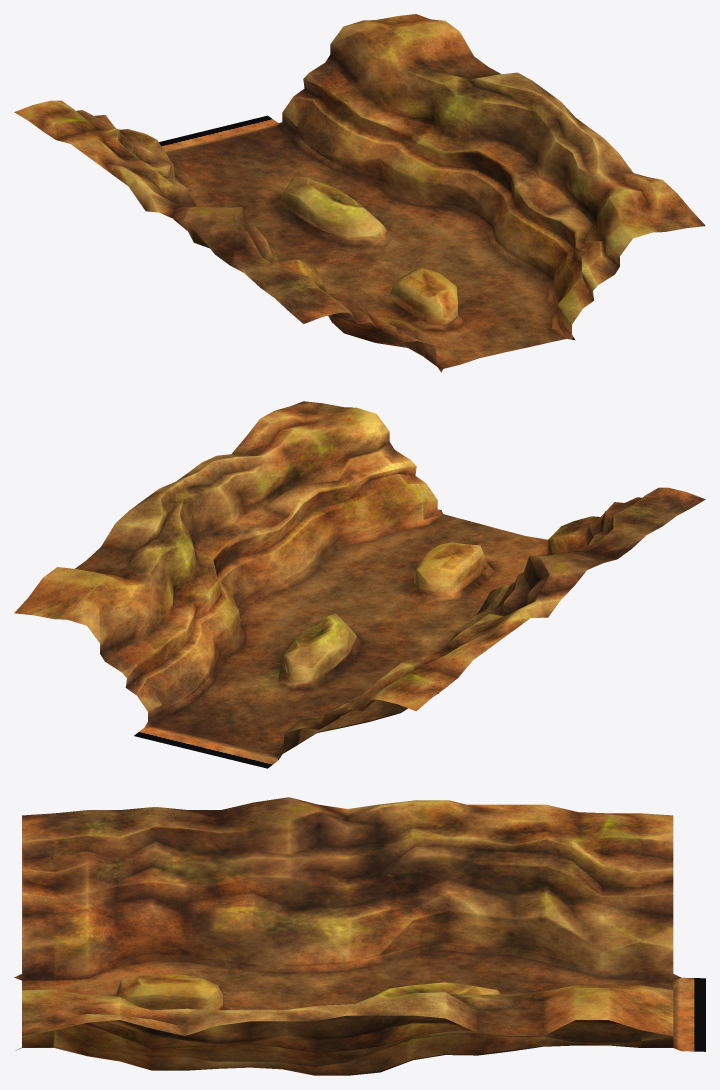
Rendered from chunk-2divides.obj.
3 views of the same model, one above another, from view 1: azimuth 30°, elevation 25°; view 2: azimuth 150°, elevation 25°; view 3: azimuth 270°, elevation 25° (orthographic). The views are drawn at different scales.
Parts seen in each view (by area): view 1: 2Divide; view 2: 2Divide; view 3: 2Divide.
Part boxes in pixels (x1,y1,x2,y2): 2Divide: [14, 14, 705, 372]; 2Divide: [14, 401, 705, 768]; 2Divide: [14, 797, 705, 1075].
Bounding box in the file's own units: 241 × 58.09 × 319.
Materials: 1 (1 with a texture image).
